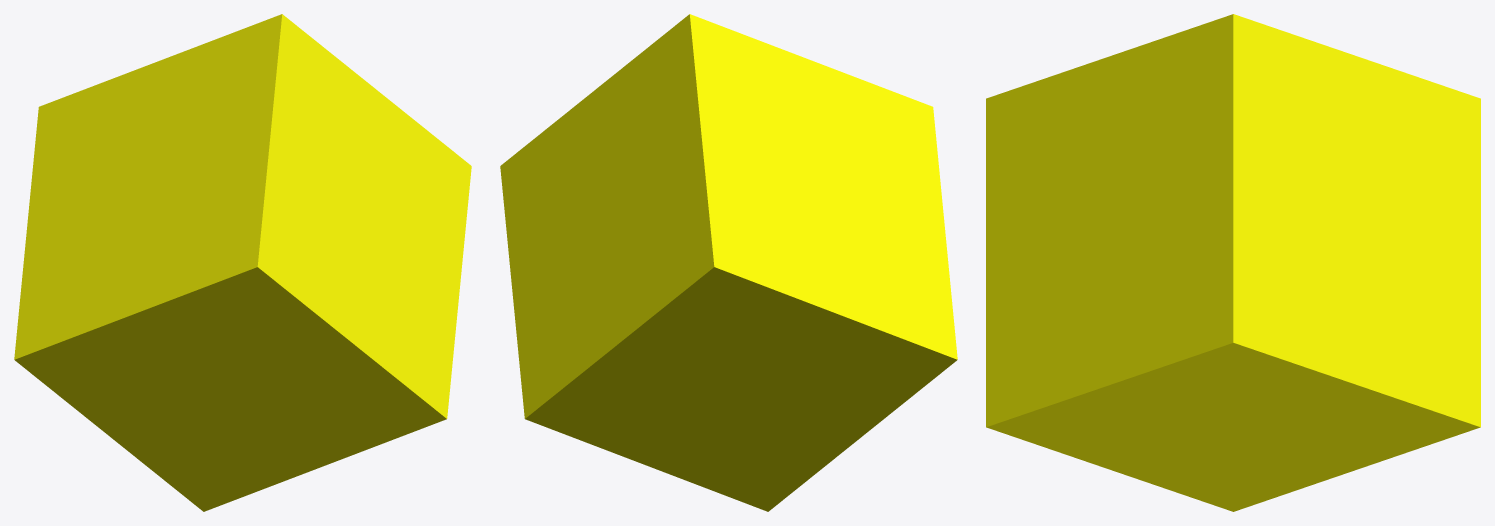
The model's file is task.glb.
3 renders of one model, left to right at view 1: azimuth 30°, elevation 25°; view 2: azimuth 150°, elevation 25°; view 3: azimuth 270°, elevation 25°, orthographic. The views are drawn at different scales.
Visible parts, largest first — view 1: Cube; view 2: Cube; view 3: Cube.
Part boxes in pixels (<box>): Cube: <box>14,14,471,511</box>; Cube: <box>500,14,957,511</box>; Cube: <box>986,14,1480,511</box>.
Bounding box in the file's own units: 0.4268 × 0.4268 × 0.3536.
1 material, 1 textured.
